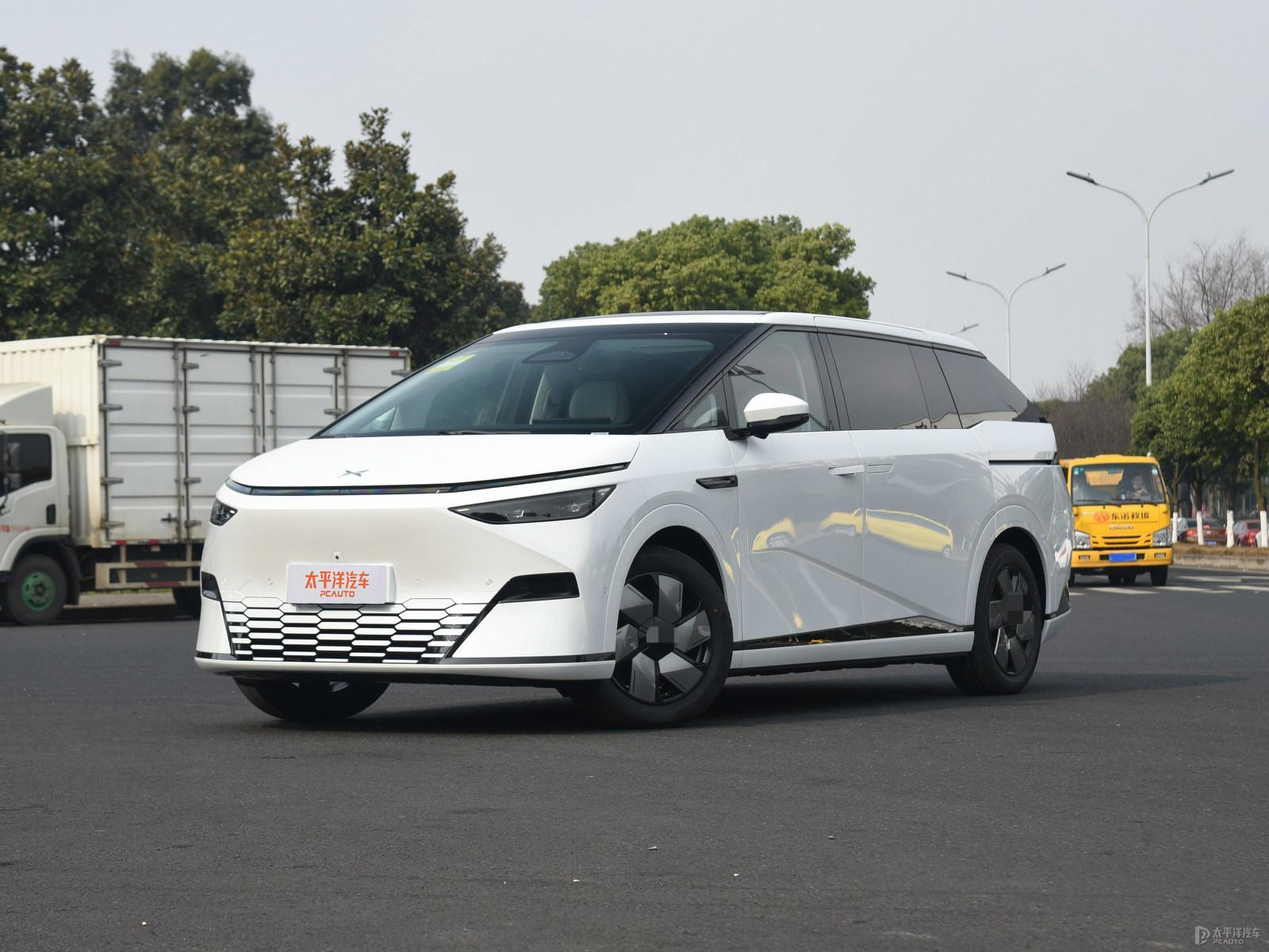XPeng Motors: (337, 468, 370, 479)
